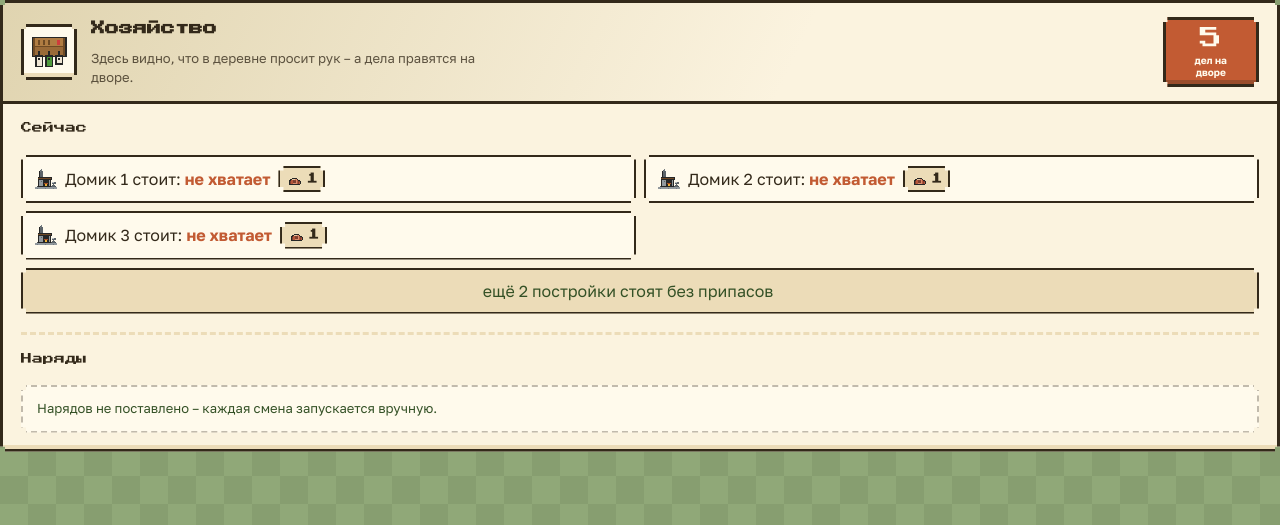
Scenario: HouseholdBox blocked building cap › caps blocked rows at 3 and reveals the rest via «ещё N»
The width and height of the screenshot is (1280, 525).
Expected: the number of buttons "Домик 1 стоит: не хватает 1" is 3, [21,154,636,203]; [644,154,1259,203]; [21,211,636,260]
Click the button "ещё 2 постройки стоят без припасов".
click(640, 290)  # box [21,268,1259,314]
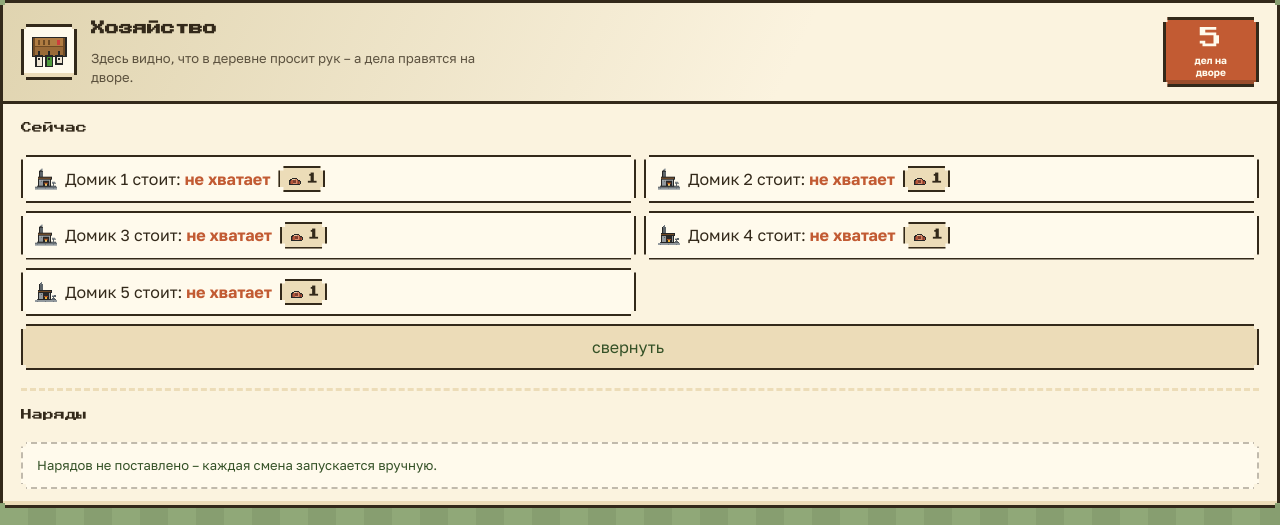
Now the number of buttons "Домик 1 стоит: не хватает 1" is 5, box [21,154,636,203]; [644,154,1259,203]; [21,211,636,260]; [644,211,1259,260]; [21,268,636,316]
Now the button "свернуть" is expanded, box [21,324,1259,370]
